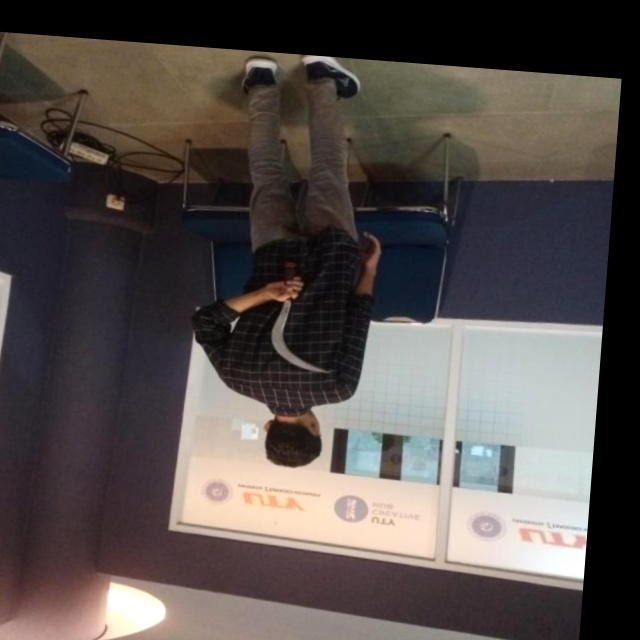Sharp-Object: (246, 267, 346, 382)
